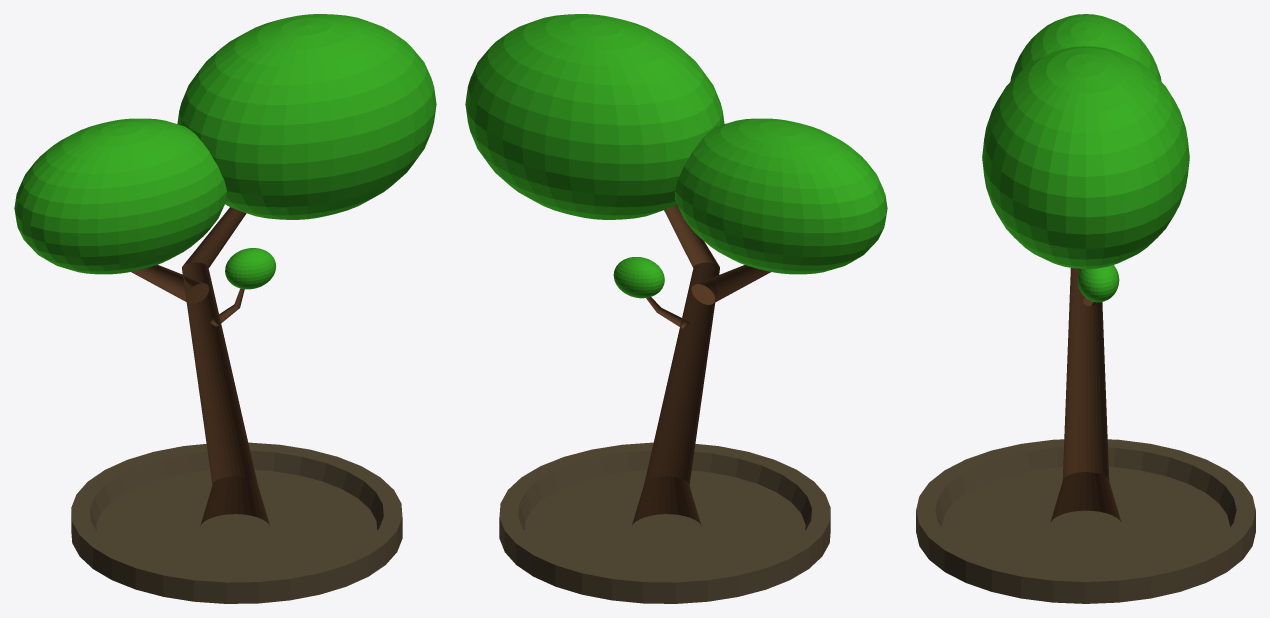
Rendered from arbol 2 (1).fbx.
3 views of the same model, side by side, from view 1: azimuth 30°, elevation 25°; view 2: azimuth 150°, elevation 25°; view 3: azimuth 270°, elevation 25° (orthographic). The views are drawn at different scales.
Visible parts, largest first — view 1: Sphere.006; view 2: Sphere.006; view 3: Sphere.006.
Part boxes in pixels (x1,y1,x2,y2): Sphere.006: (14, 14, 436, 603); Sphere.006: (465, 14, 887, 603); Sphere.006: (916, 14, 1255, 603).
Size of the model in its own units: 448 by 520 by 318.
